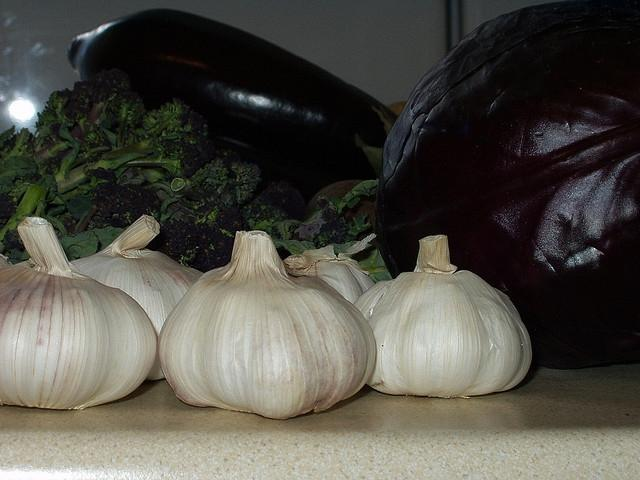broccoli: (56, 99, 210, 195), (70, 68, 146, 141), (155, 218, 235, 274), (0, 184, 55, 252), (210, 160, 262, 204), (314, 218, 356, 249), (1, 156, 40, 188), (78, 166, 116, 191), (34, 174, 58, 204), (80, 130, 111, 150), (71, 110, 90, 141)
eggplant: (66, 9, 400, 206)
garlic: (156, 230, 376, 420), (2, 217, 158, 410), (353, 234, 533, 399), (70, 214, 204, 380), (284, 233, 376, 303)
